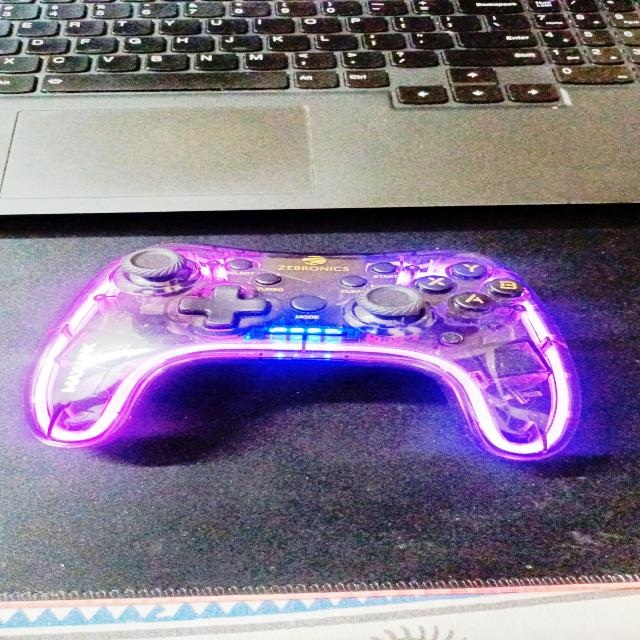gamepad: (21, 242, 582, 462)
